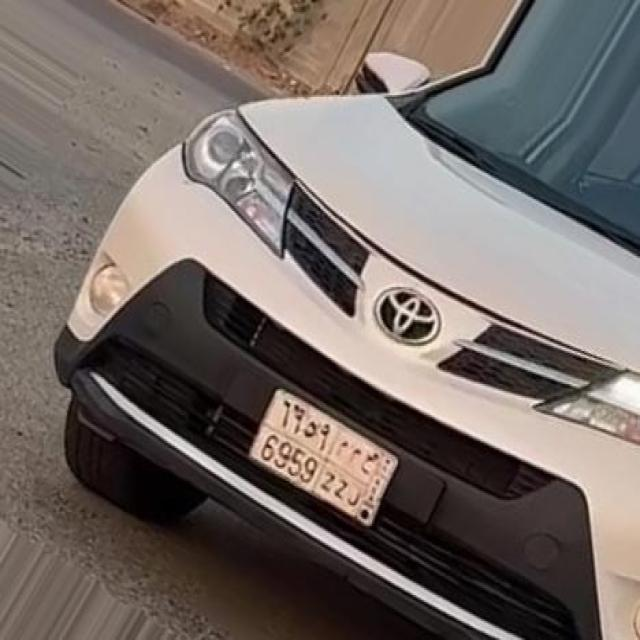Car-plate: (233, 365, 412, 543)
